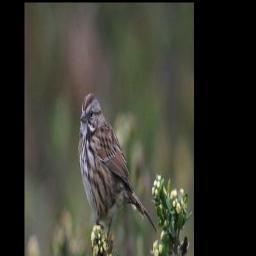Sparrow: (75, 91, 159, 256)
